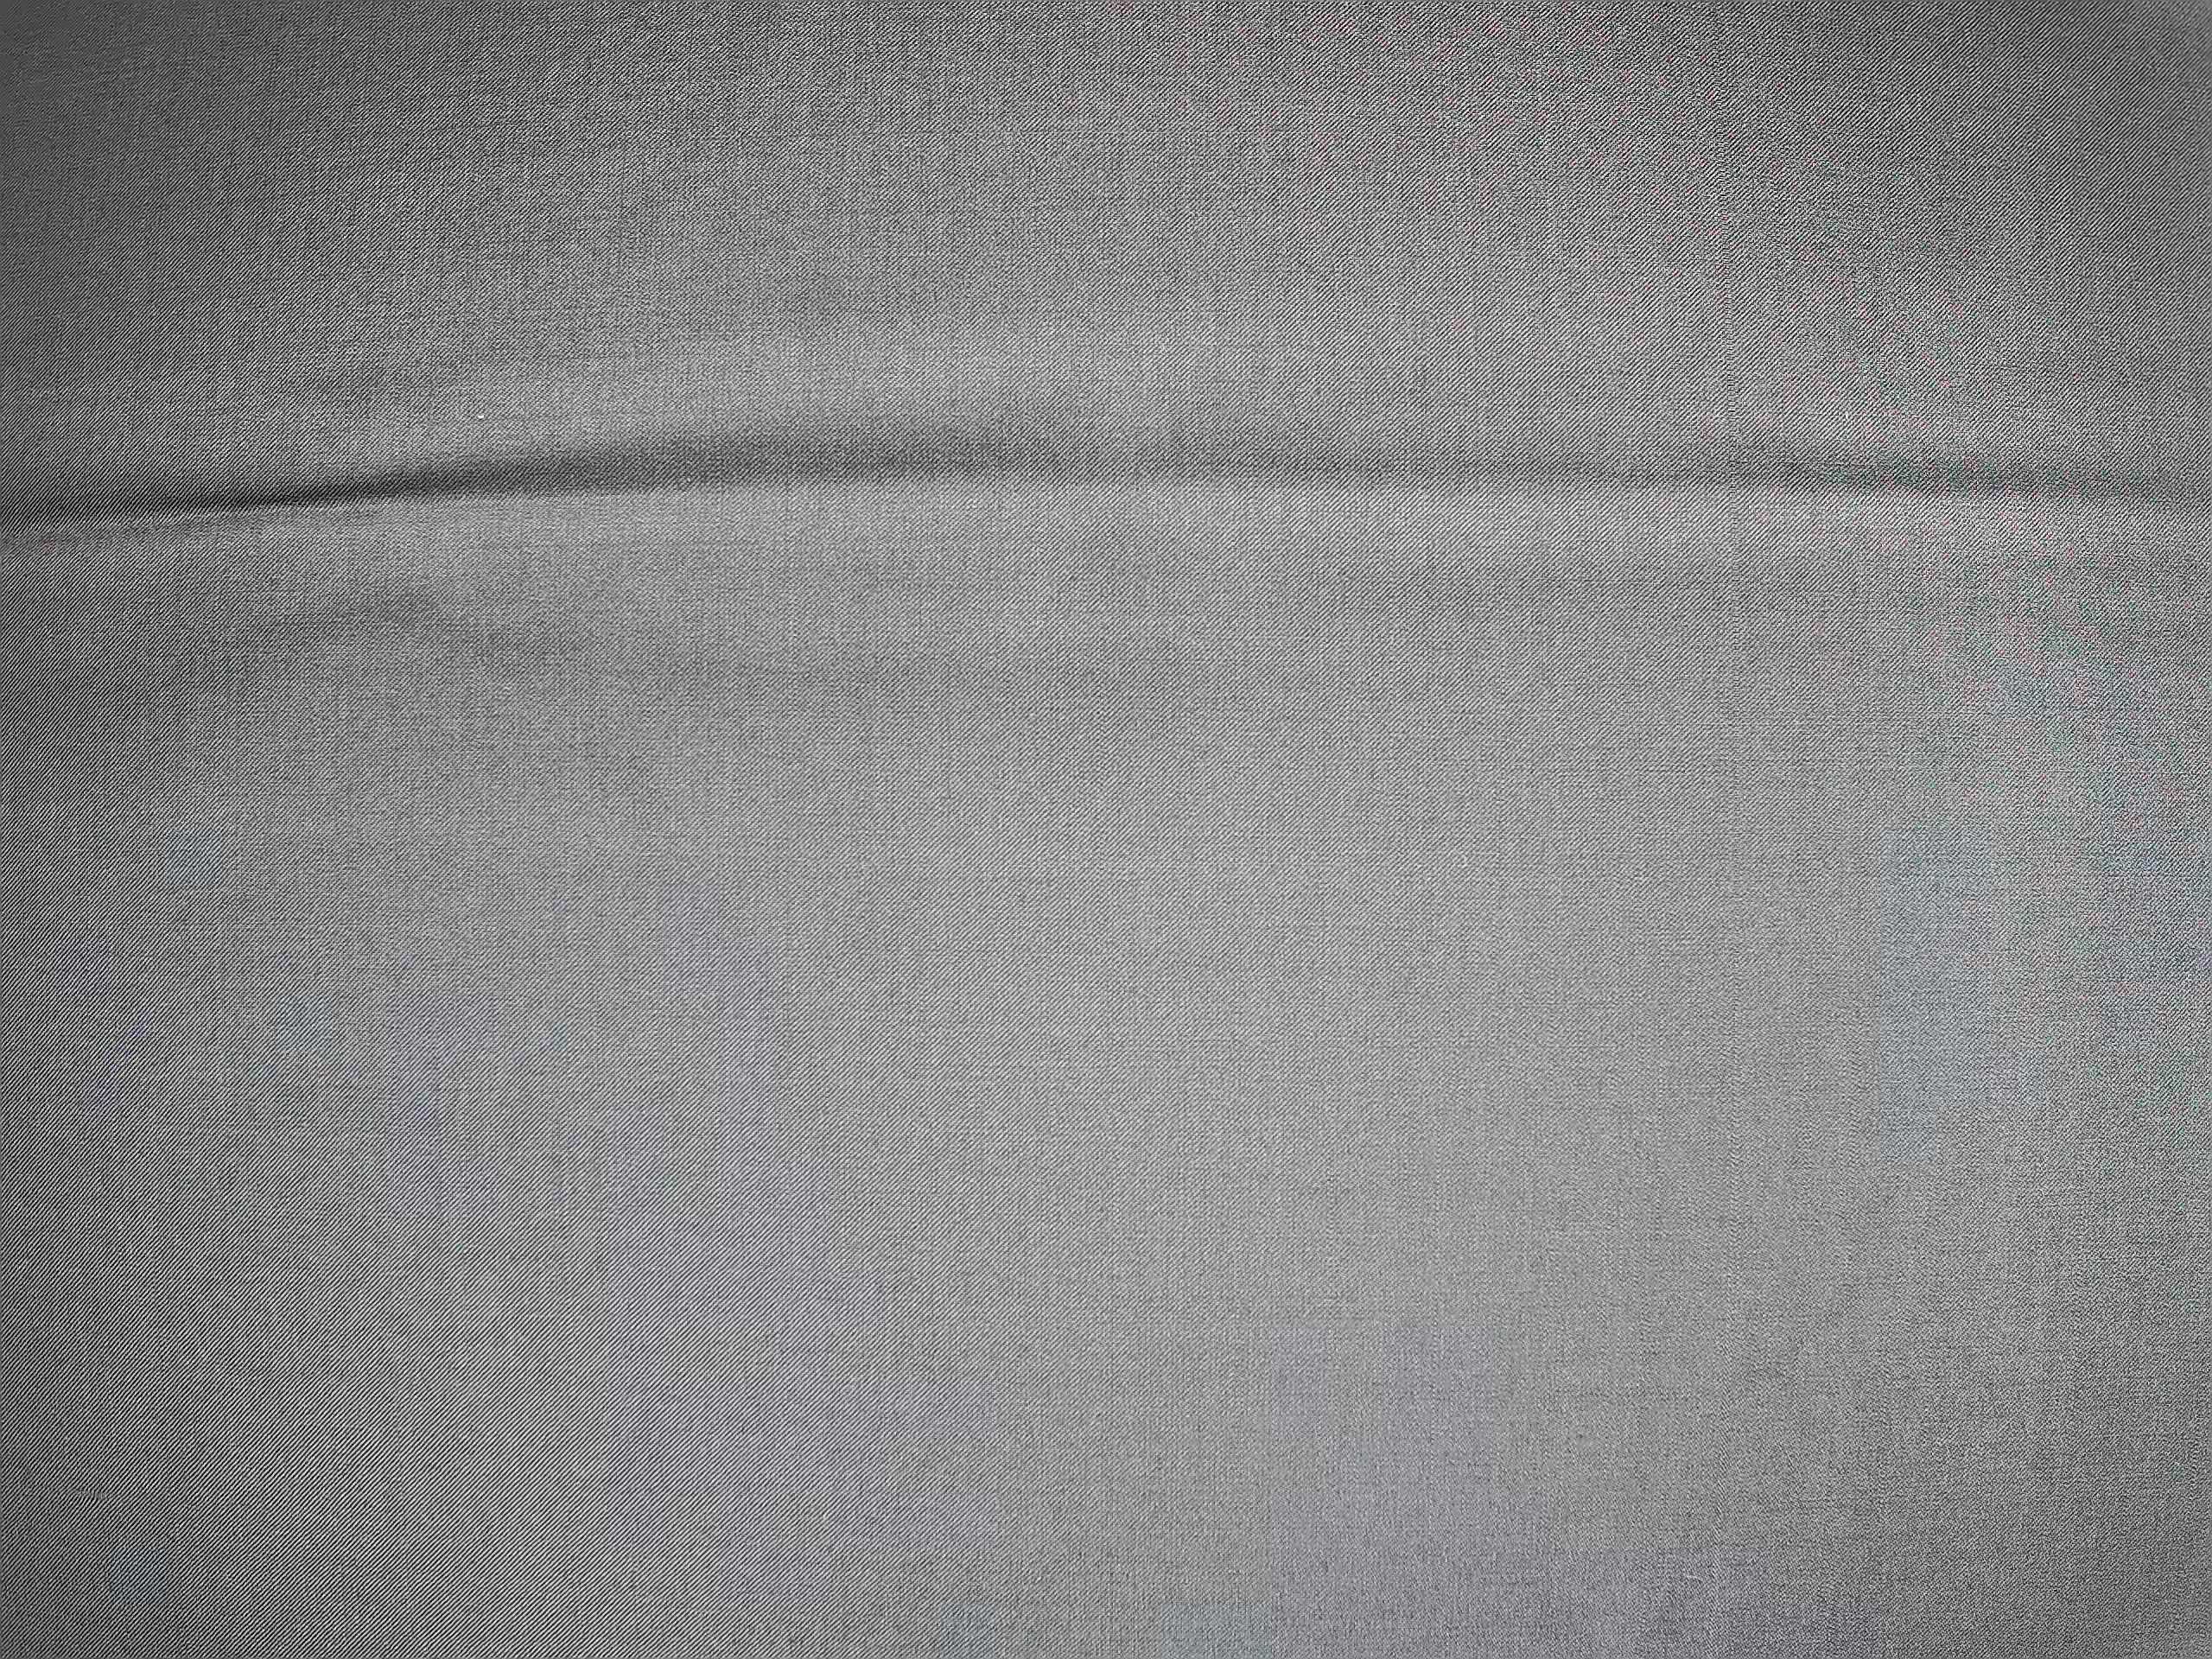lacking-warp: (1688, 12, 1752, 960)
